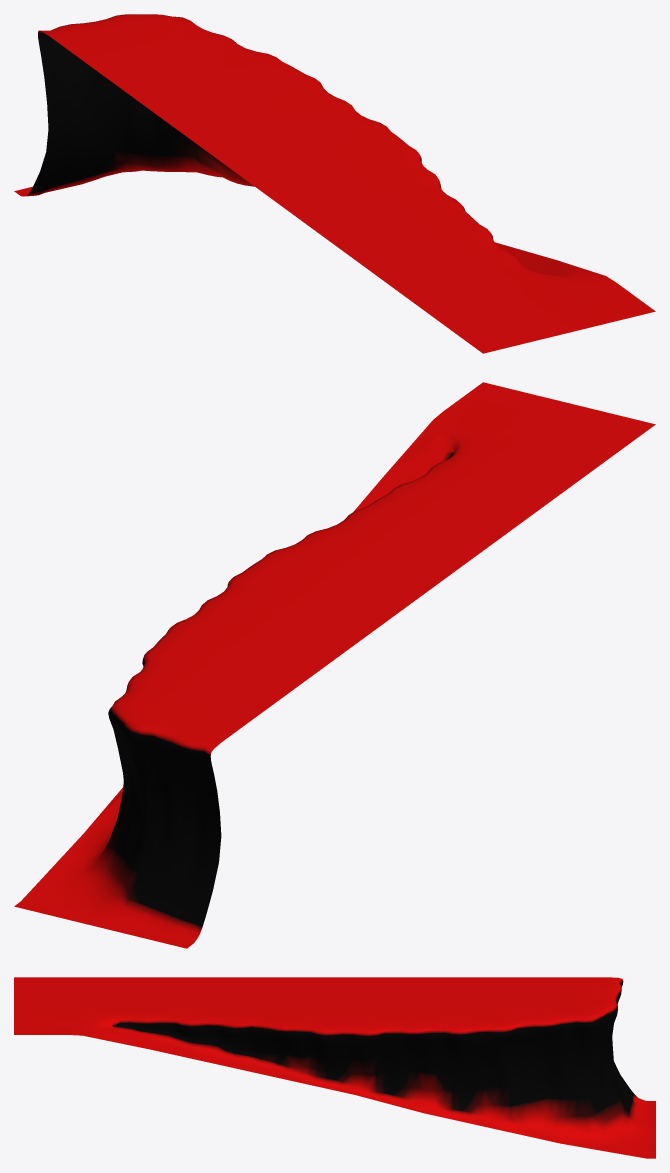
The model's file is ClimbCliff01A 2M Background.fbx.
The picture shows the model from 3 angles, top to bottom: view 1: azimuth 30°, elevation 25°; view 2: azimuth 150°, elevation 25°; view 3: azimuth 270°, elevation 25°; orthographic projection. The views are drawn at different scales.
Visible parts, largest first — view 1: ClimbCliff01A 2M Background; view 2: ClimbCliff01A 2M Background; view 3: ClimbCliff01A 2M Background.
Part boxes in pixels (x1,y1,x2,y2): ClimbCliff01A 2M Background: [14, 14, 655, 353]; ClimbCliff01A 2M Background: [14, 382, 655, 948]; ClimbCliff01A 2M Background: [14, 977, 655, 1158].
Size of the model in its own units: 2 by 2 by 9.4.
